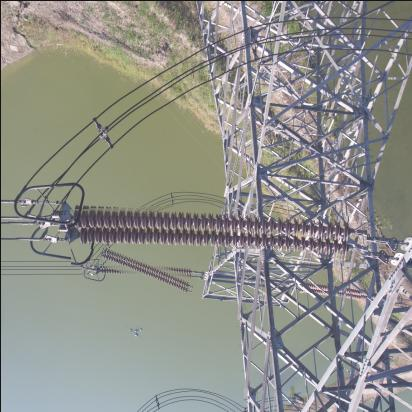insulator: (70, 202, 367, 265), (98, 255, 196, 289), (298, 283, 367, 305)
